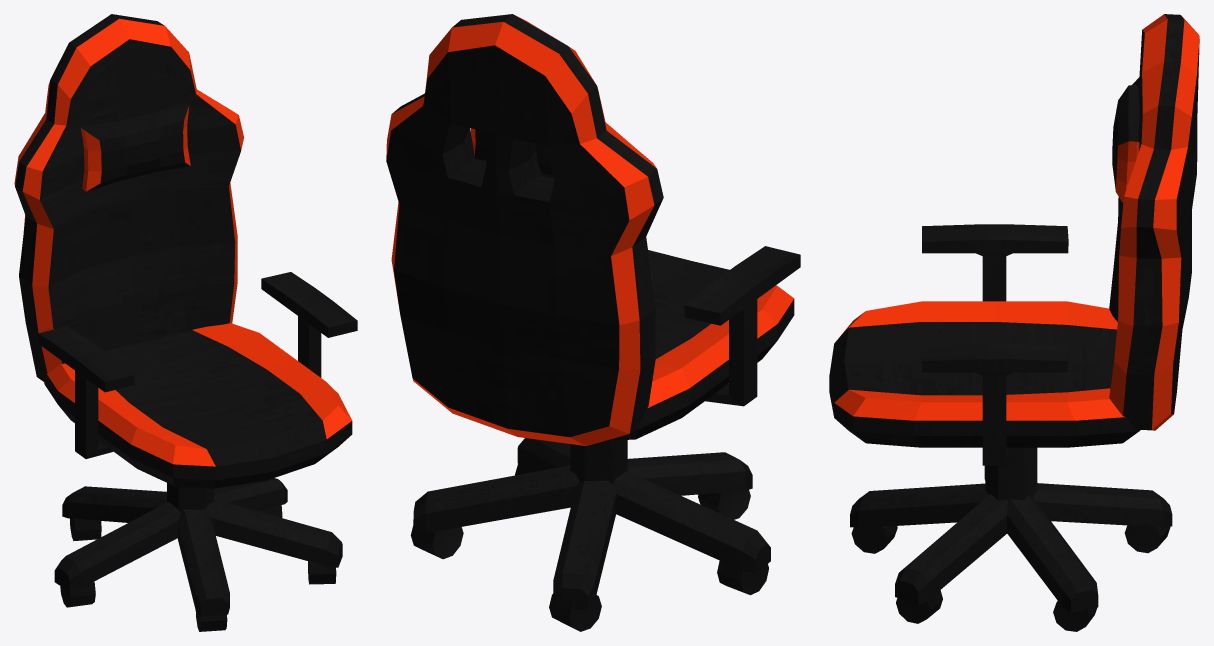
File: gamingChair.glb
3 renders of one model, left to right at view 1: azimuth 30°, elevation 25°; view 2: azimuth 150°, elevation 25°; view 3: azimuth 270°, elevation 25°, orthographic. The views are drawn at different scales.
Parts seen in each view (by area): view 1: gamingChair; view 2: gamingChair; view 3: gamingChair.
Part boxes in pixels (x1,y1,x2,y2): gamingChair: (14, 14, 357, 631); gamingChair: (386, 14, 800, 631); gamingChair: (829, 14, 1199, 631).
Bounding box in the file's own units: 0.6974 × 1.29 × 0.7881.
Materials: 2 (1 with a texture image).
